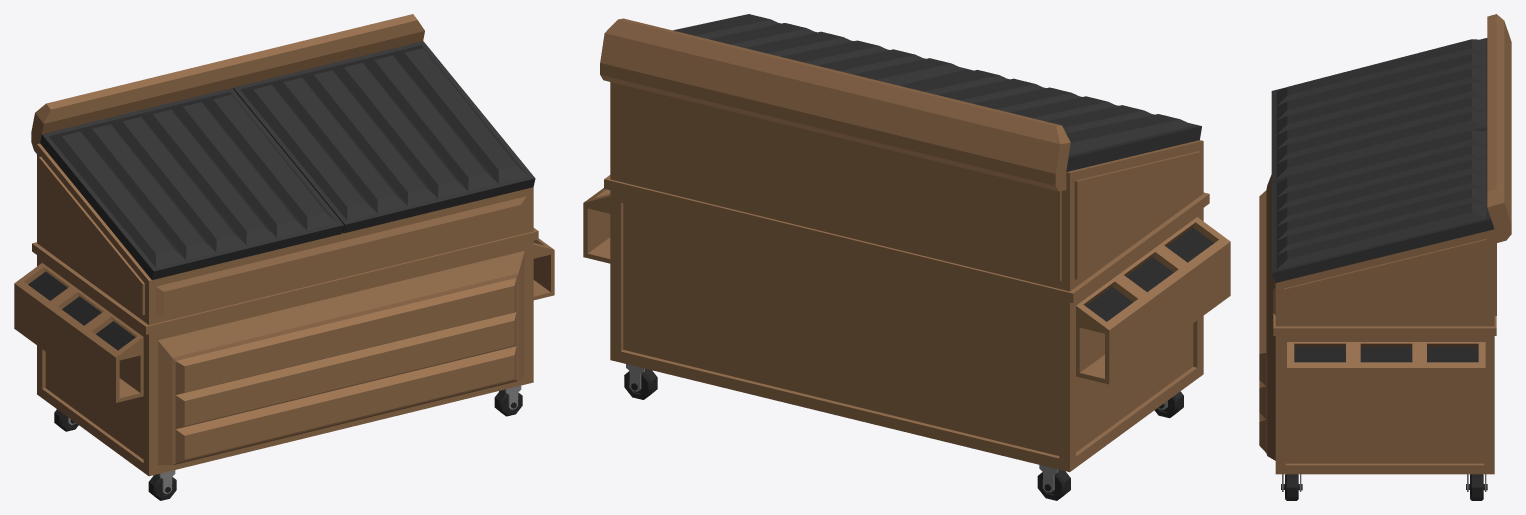
File: props_69.glb
The picture shows the model from 3 angles, left to right: view 1: azimuth 30°, elevation 25°; view 2: azimuth 150°, elevation 25°; view 3: azimuth 270°, elevation 25°; orthographic projection. The views are drawn at different scales.
Visible parts, largest first — view 1: props_69; view 2: props_69; view 3: props_69.
Boxes of the visible parts, x1,y1,x2,y2 form: props_69: (14,14,554,500); props_69: (583,14,1230,500); props_69: (1259,14,1511,500).
Size of the model in its own units: 2.28 by 1.59 by 1.16.
Materials: 1 (1 with a texture image).
